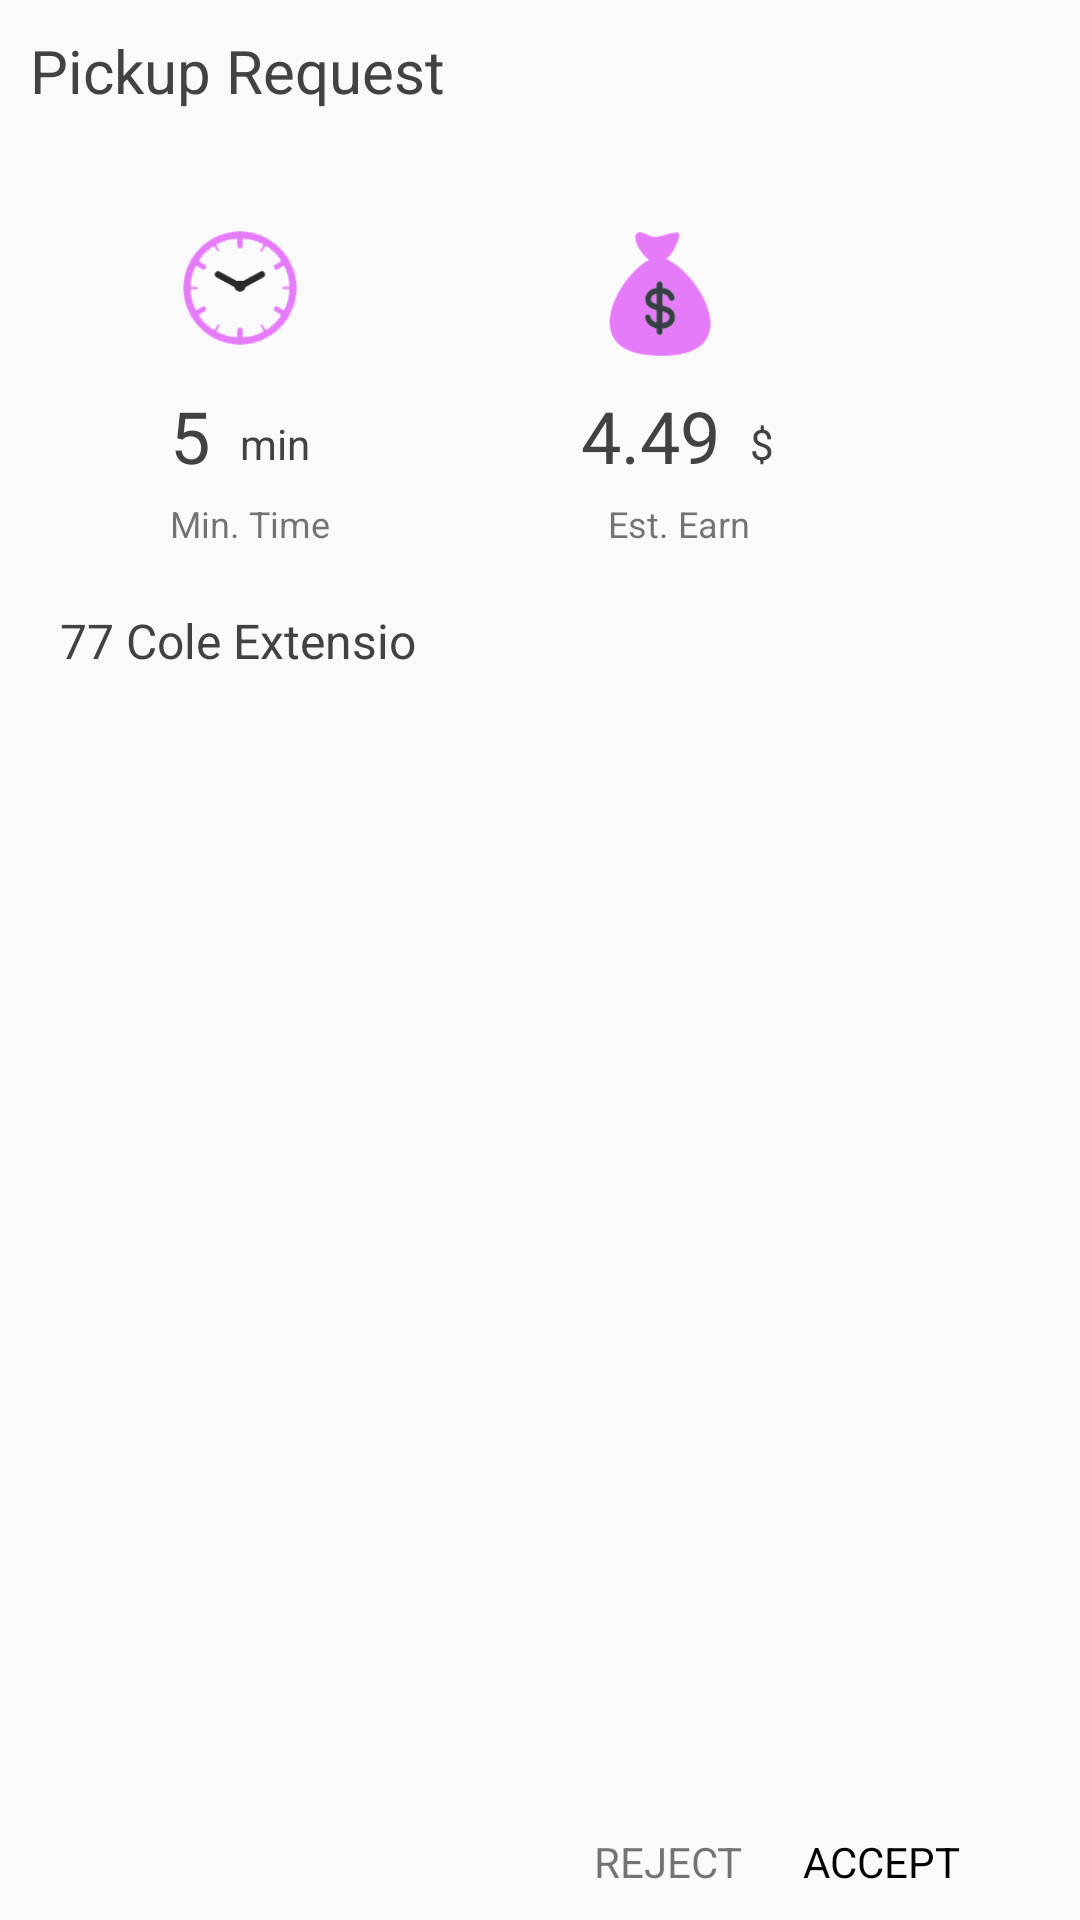

Point at icon controls on the screen. Image size 1080*1920, points as [x,y].
bag: [660,294]
clock: [240,288]
